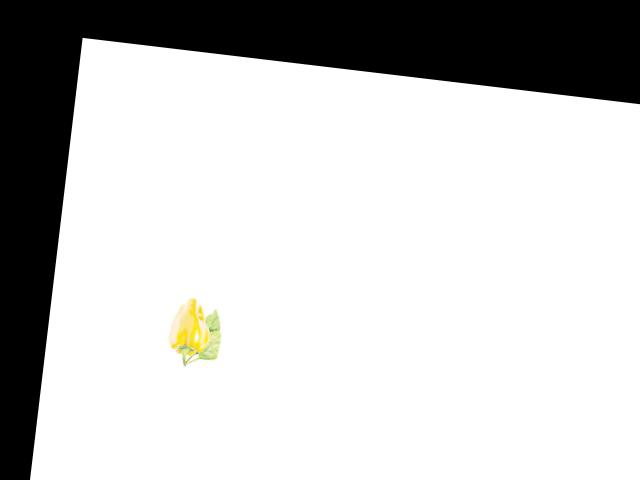bell_pepper: (162, 293, 215, 370)
